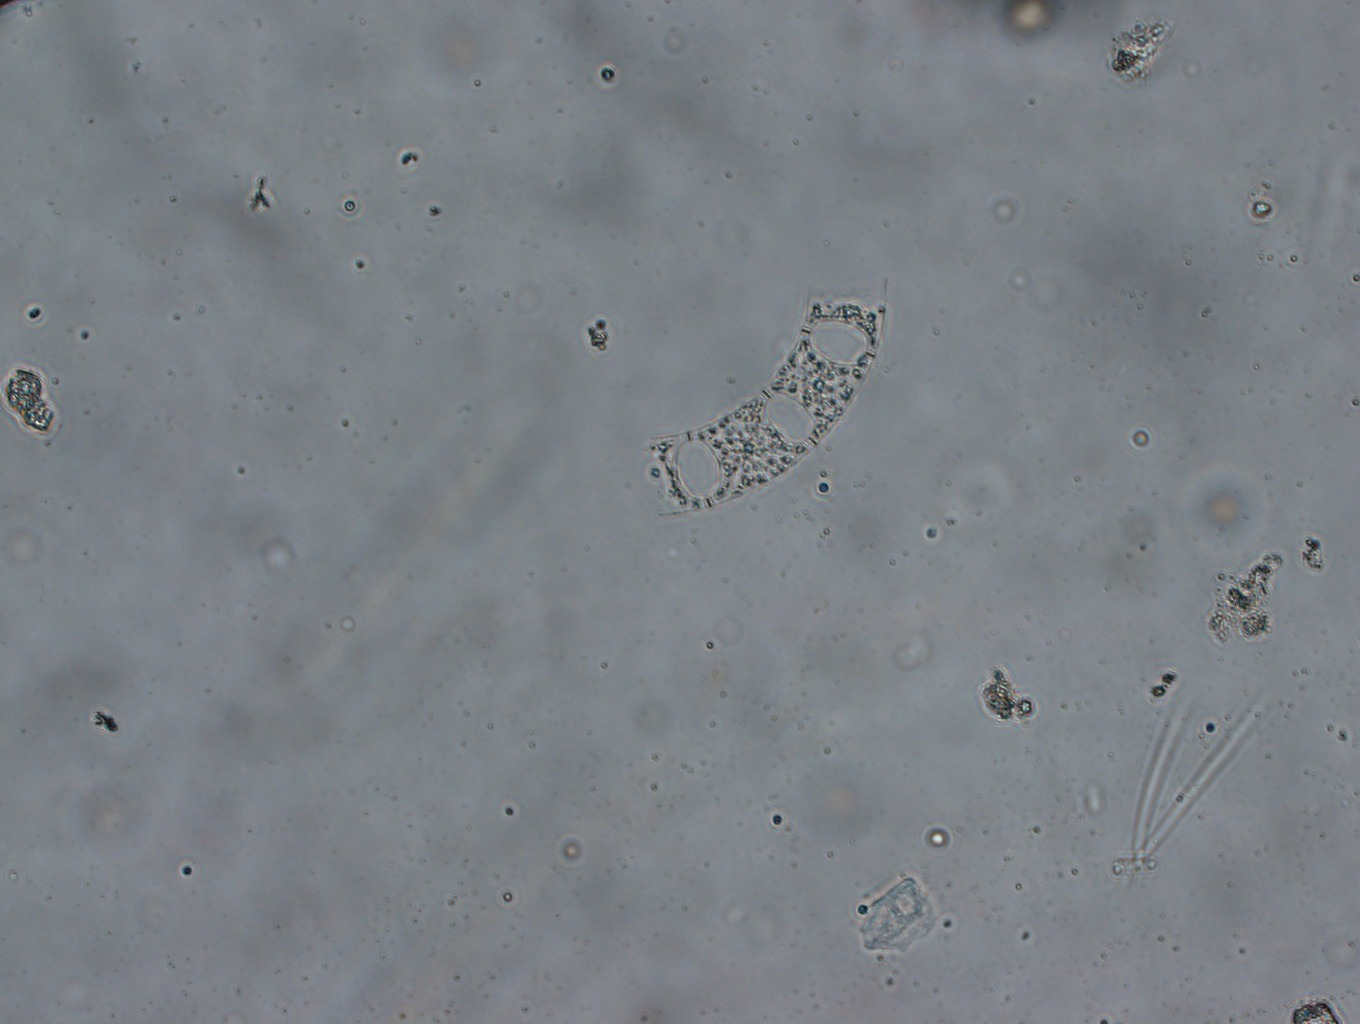eucampia: (642, 290, 886, 520)
